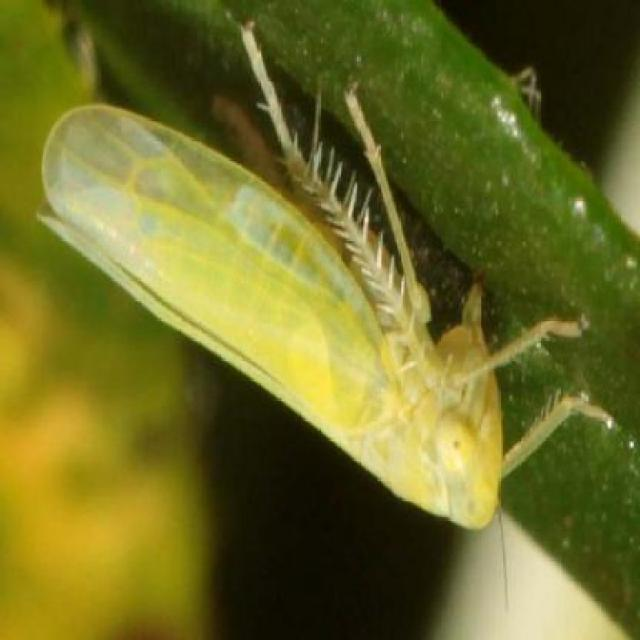green-leafhopper: (34, 22, 605, 527)
